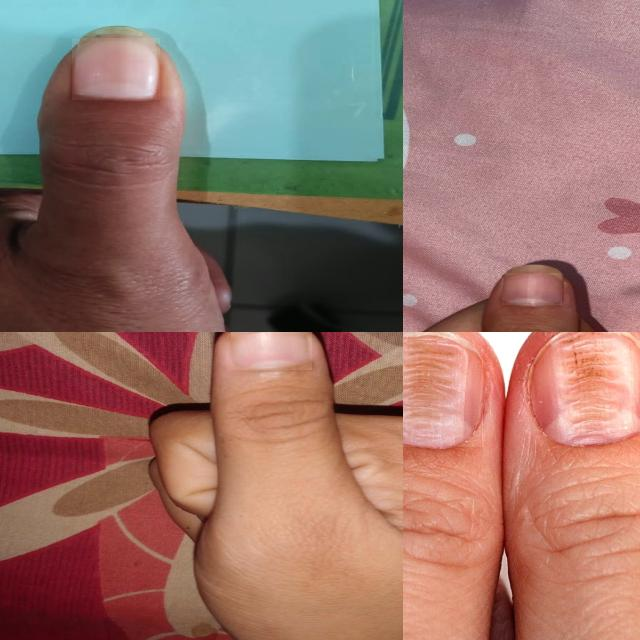diabetes: (527, 332, 640, 446), (403, 332, 483, 447)
sehat: (72, 38, 160, 100), (231, 333, 312, 370), (503, 273, 562, 305)
